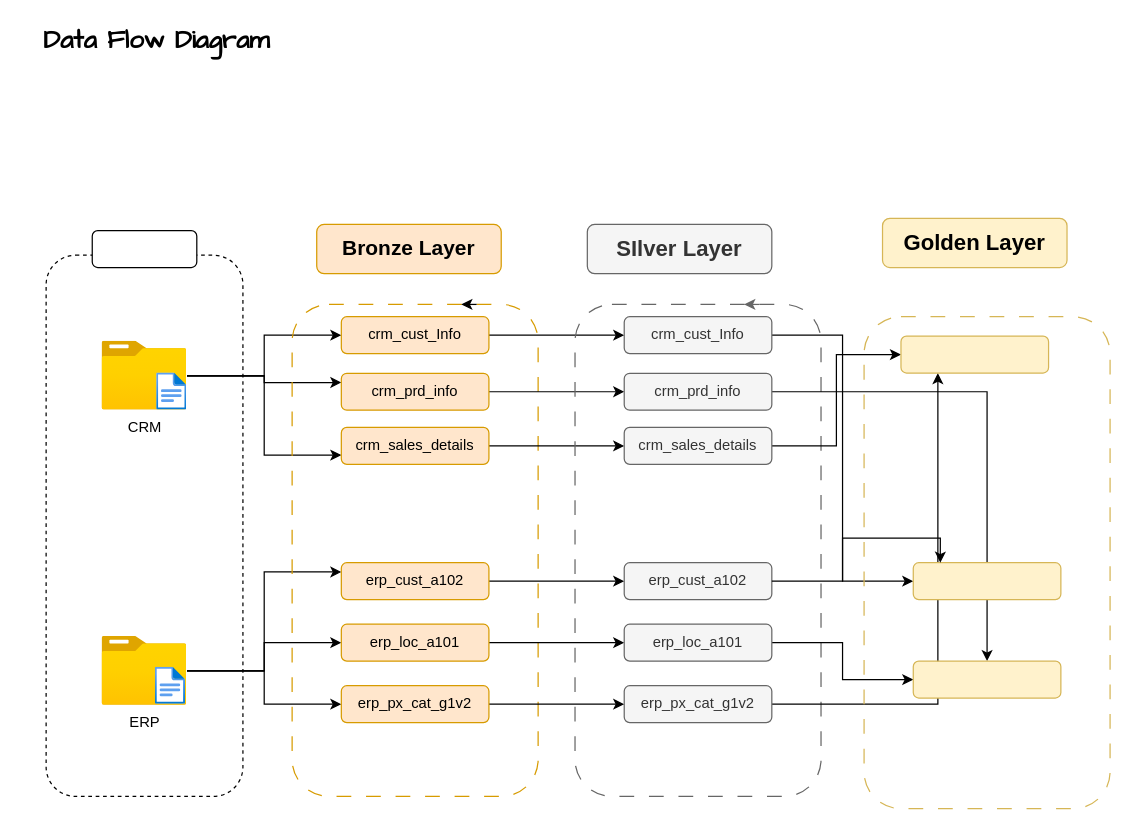
The diagram is 1132 pixels wide and 830 high, and some of its shapes have lost their labels. Here are the shapes that lost their labels. From the top down, the centre of each, then its label:
pixel 144 248: Source
pixel 974 354: gold.fact_sales
pixel 986 580: gold.dim_cutomers
pixel 986 679: gold.dim_products
